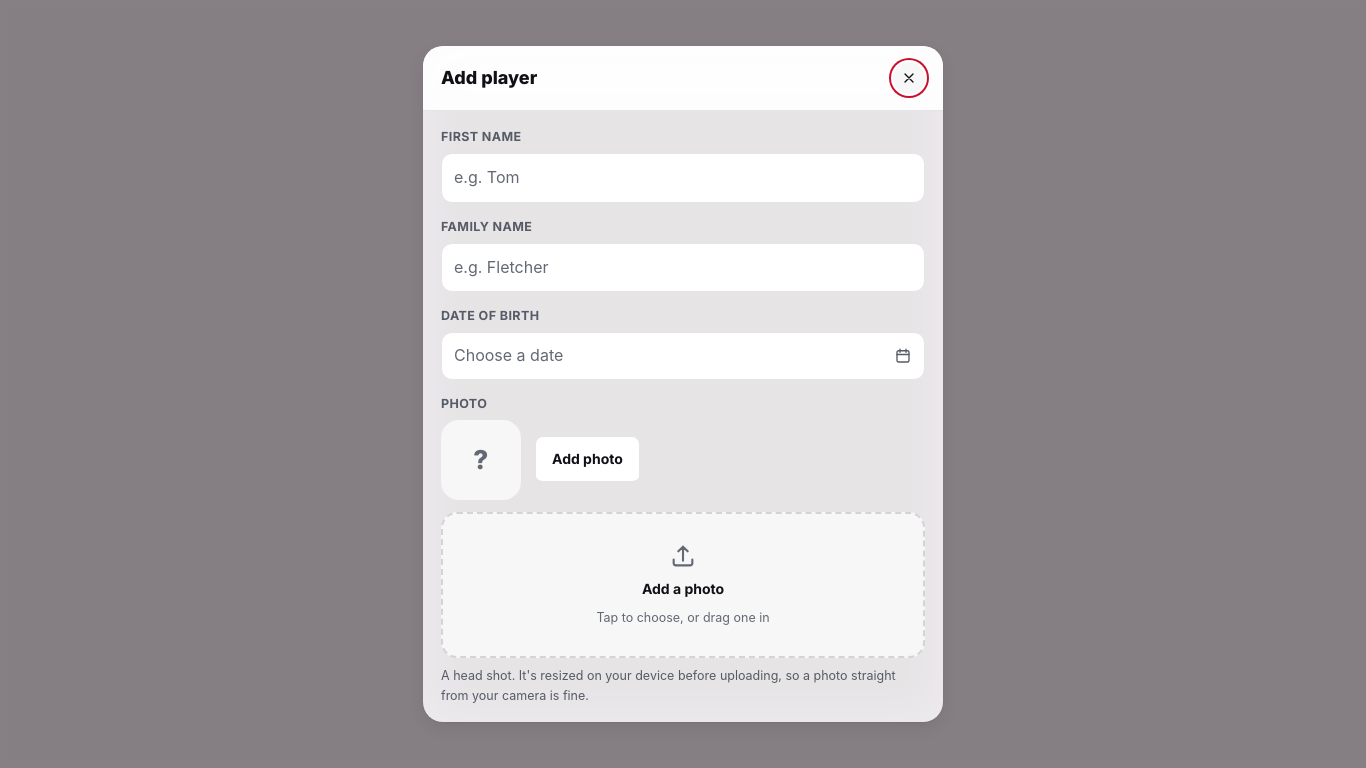
PlayerForm — validation › keeps a failed SAVE on screen while typing, unlike a validation error
Type "Tom" into the field labelled "First name" at (683, 178), box [441, 153, 925, 203]
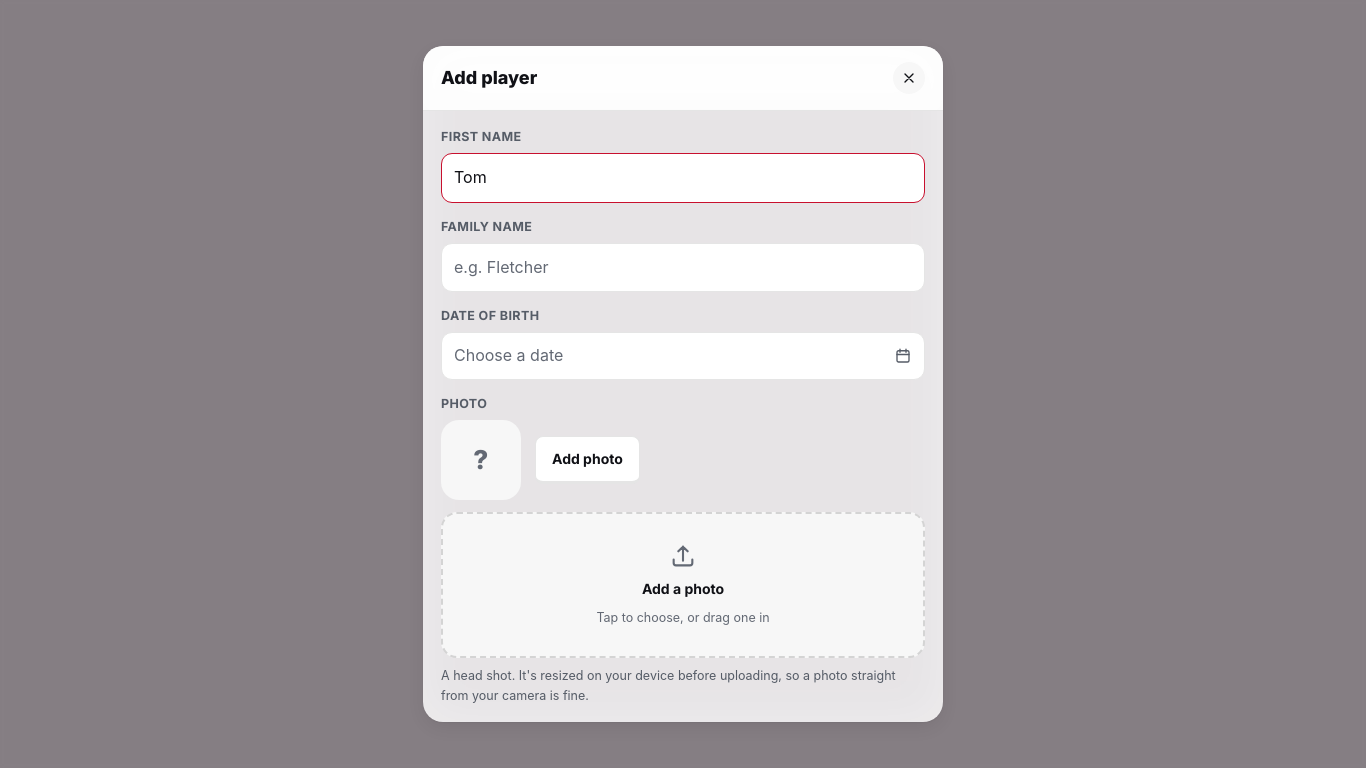
Type "Fletcher" into the field labelled "Family name" at (683, 268), box [441, 243, 925, 292]
(page scrolled)
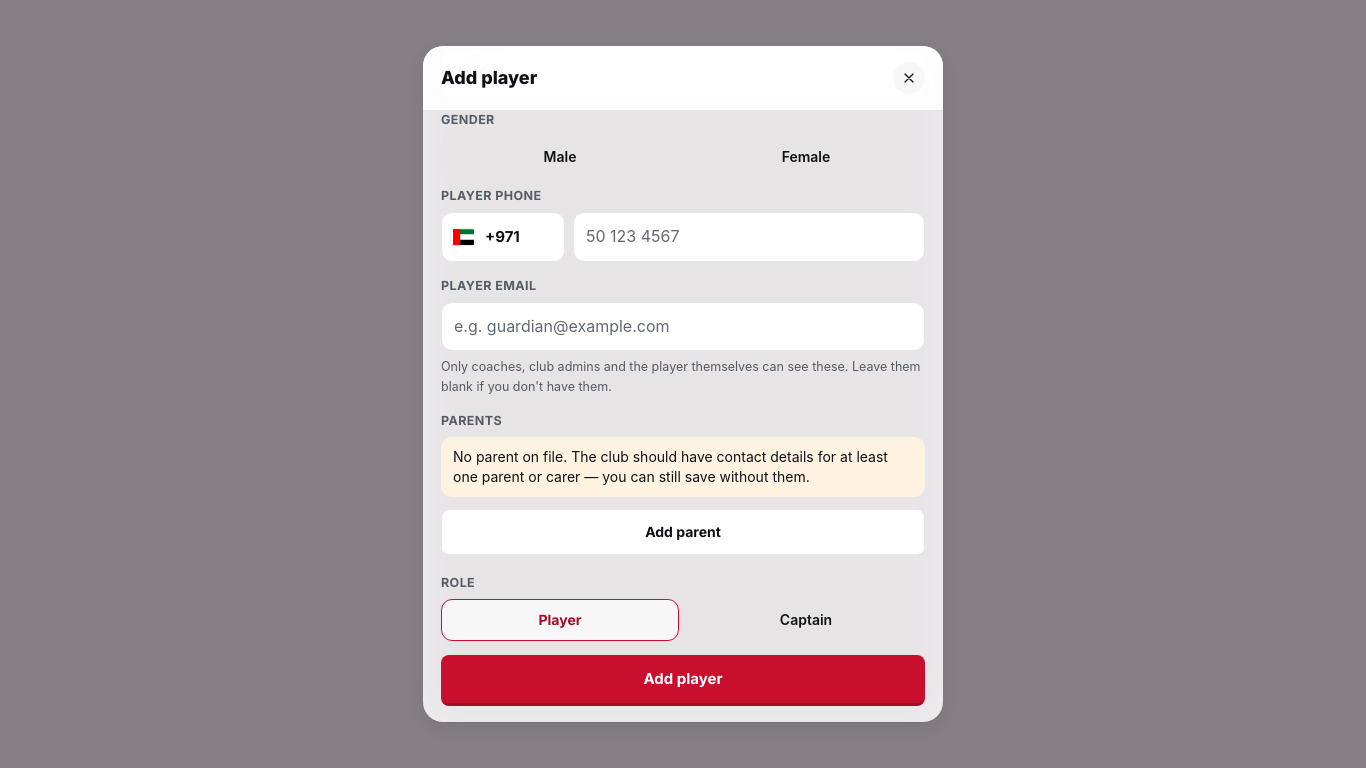
Click the button "Add player" at (683, 681), box [441, 655, 925, 706]
(page scrolled)
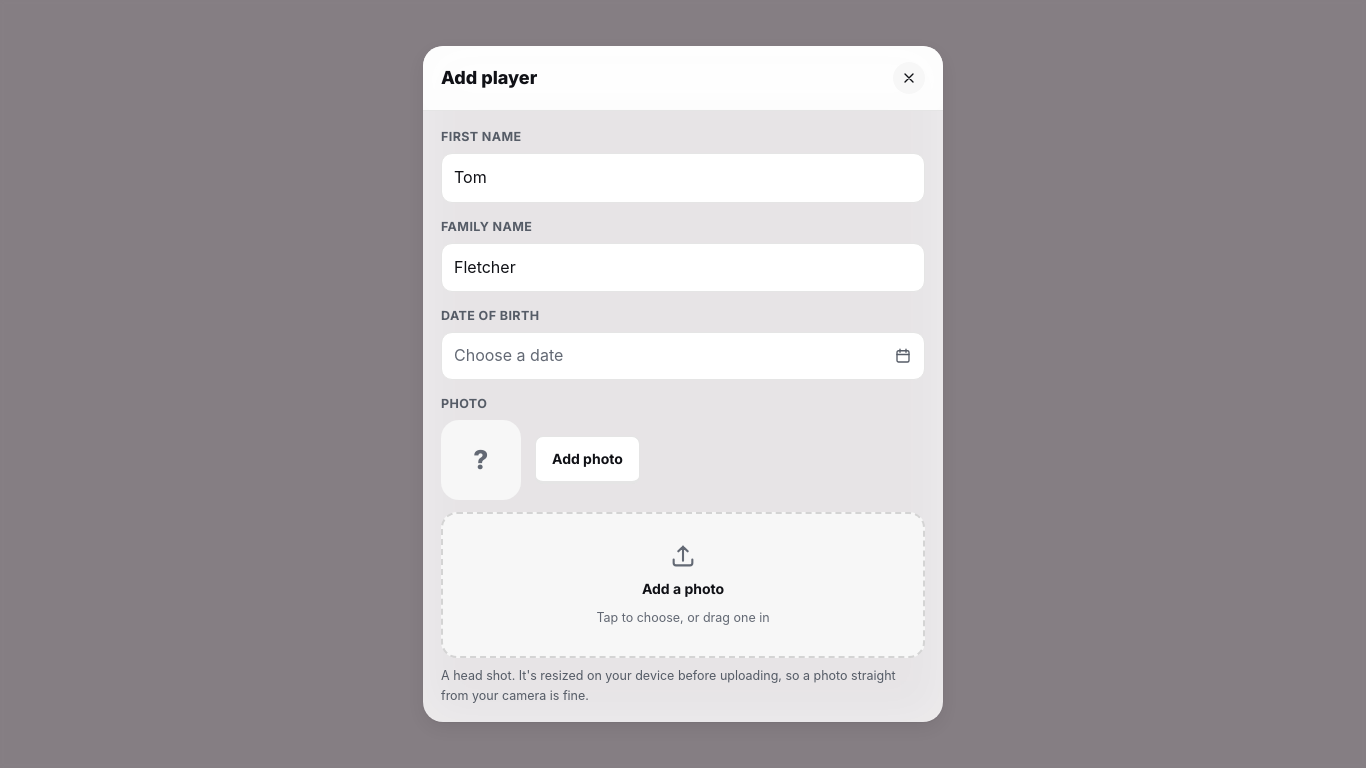
Type "!" into the field labelled "First name" at (683, 178), box [441, 153, 925, 203]
(page scrolled)
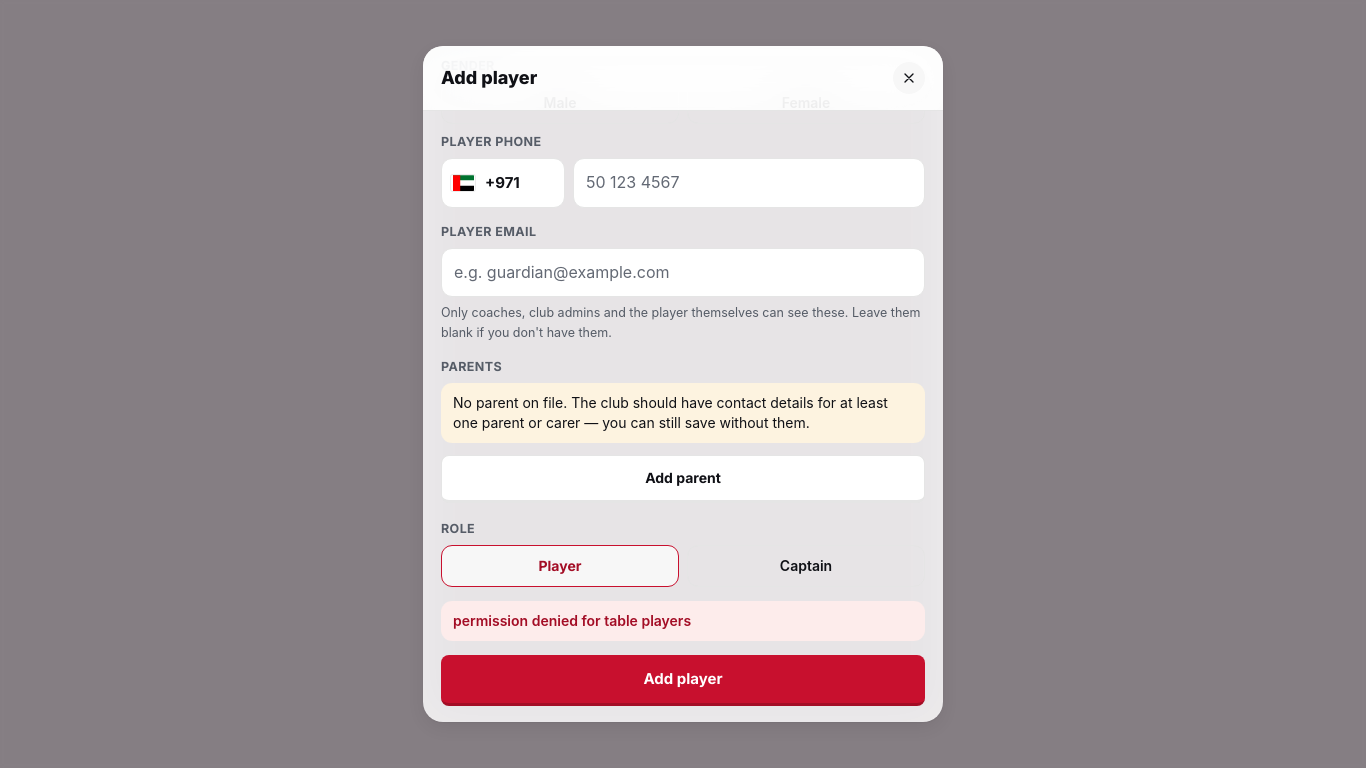
Check: the message "permission denied for table players" is shown, box [441, 601, 925, 641]
